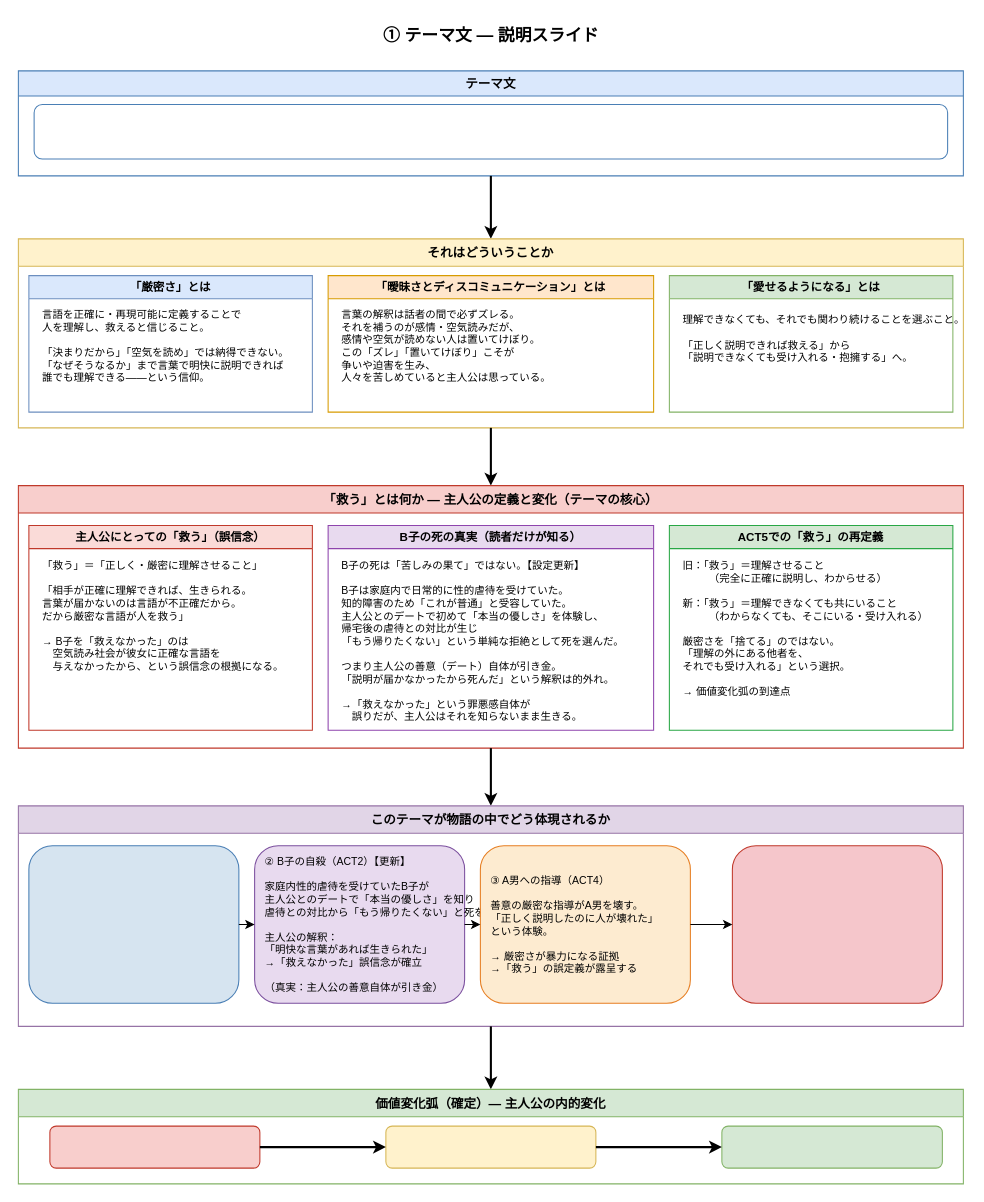
This 984x1202 diagram has some shape labels left out. Each missing label, with the centre of its shape:
"① 父と数式（ACT1） 「なぜそうなるか」まで説明してくれた父。 「問いの言い換え」という手法を学ぶ。 → 厳密さ信仰の起源" belongs at (133,924).
"④ クライマックス（ACT5） A男の自殺未遂に際し、 「理解できなくてもそれでも受け入れる」 を選択する。 「救う」の再定義が体現される。 → テーマの到達点" belongs at (836,924).
"「厳密に定義された言葉」こそが人を救うと考えた主人公が、 曖昧さとディスコミュニケーションだらけの人間社会を、愛せるようになる話" belongs at (490,131).
"理解しても救えない" belongs at (490,1146).
"理解すれば救える" belongs at (154,1146).
"理解できなくても寄り添える" belongs at (831,1146).
